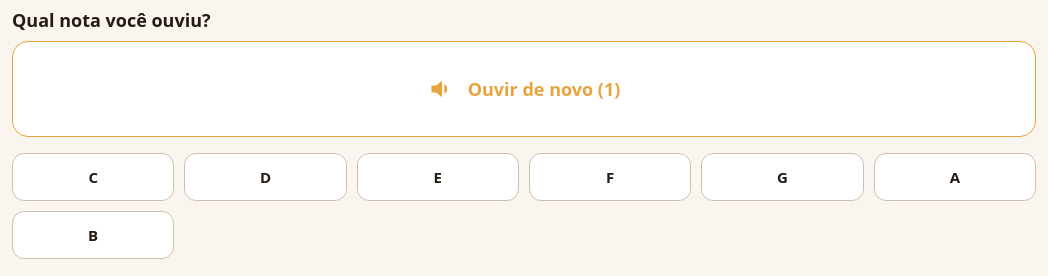
EarQuiz › hard allows 2 listens in total (1 repeat)
This screenshot has width=1048, height=276.
What coordinates should you click on to do the following:
click the button "Ouvir de novo (1)"
I would click on:
 (524, 89)
Its box is [12, 41, 1036, 137].
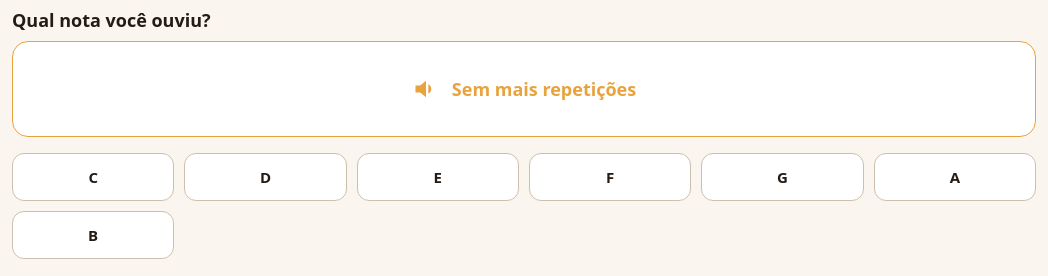
Expected: the button "Sem mais repetições" is disabled, [12, 41, 1036, 137]
